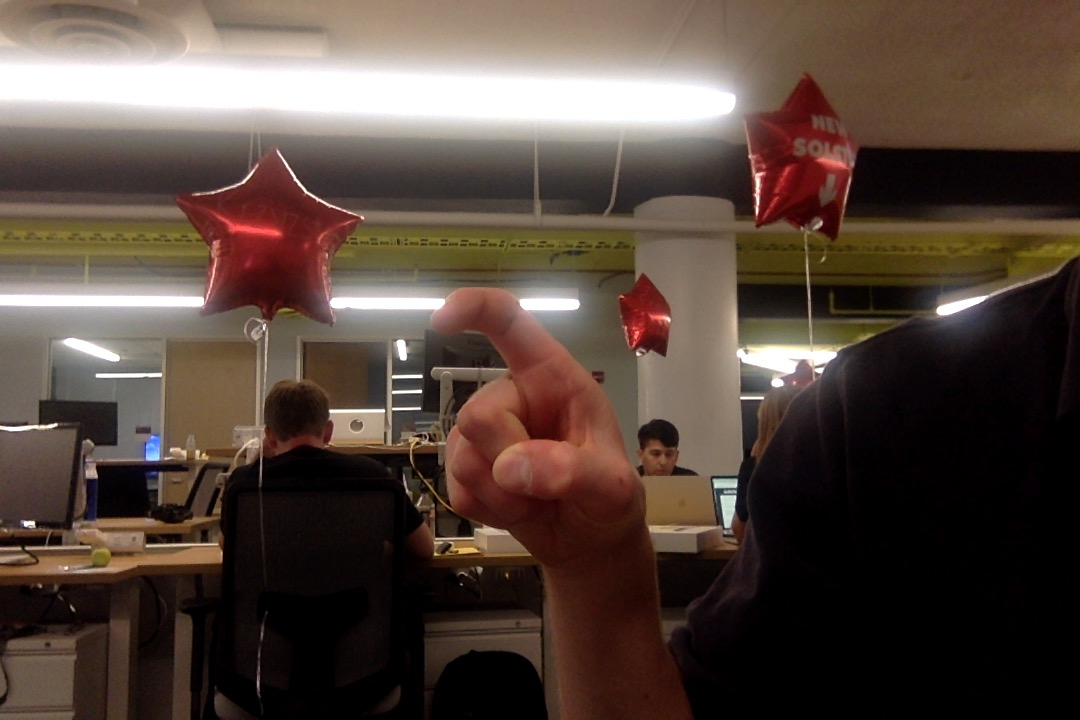x: (420, 281, 658, 566)
